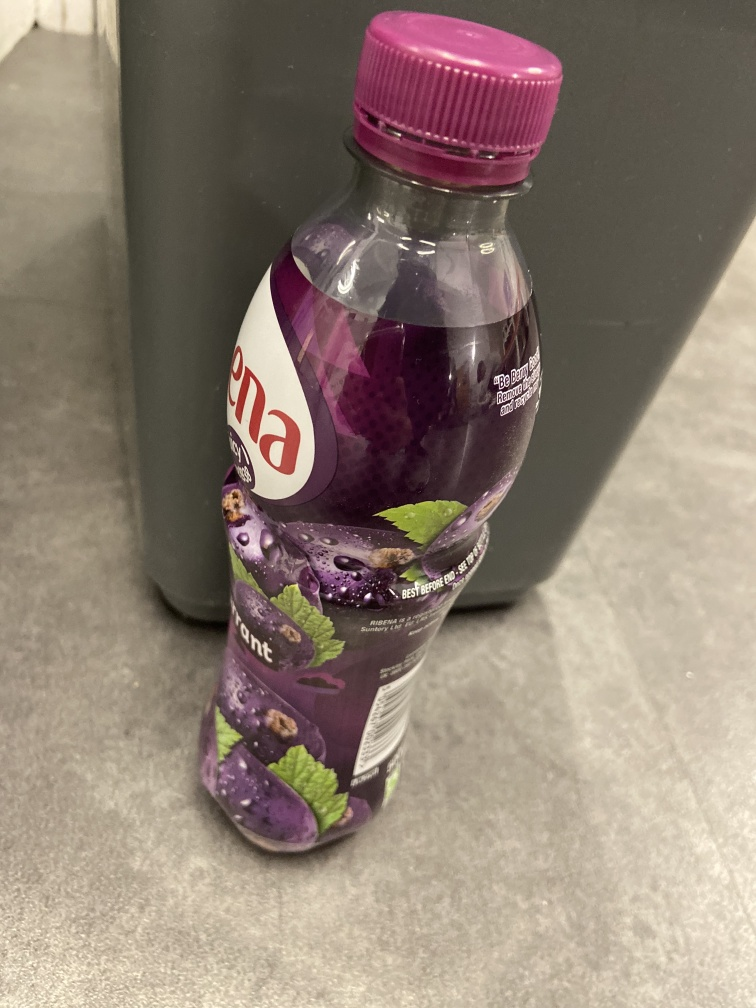bottle_purple: (191, 6, 563, 860)
